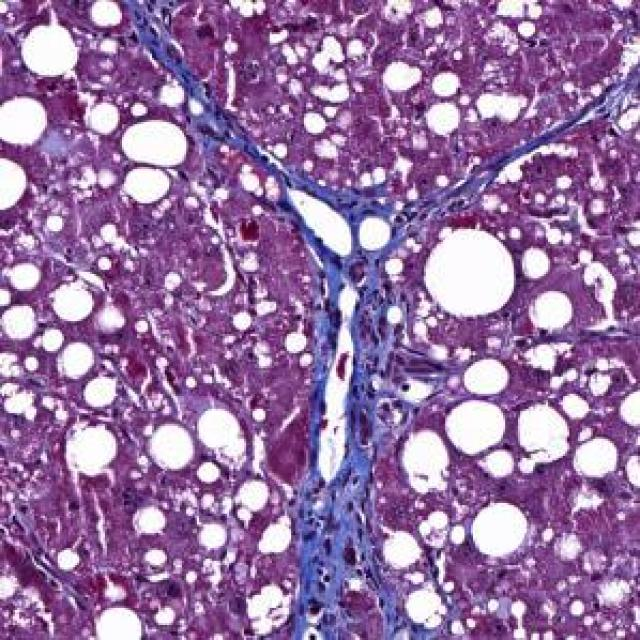fibrosis: (298, 242, 422, 473), (280, 434, 402, 632)
